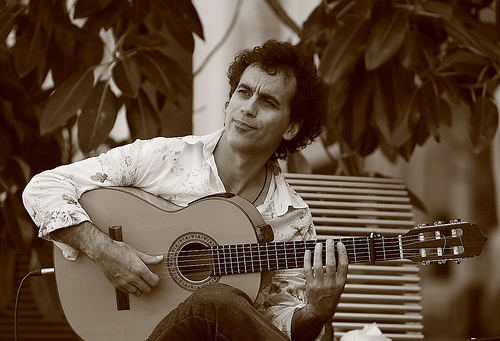guitar: (49, 184, 487, 341)
